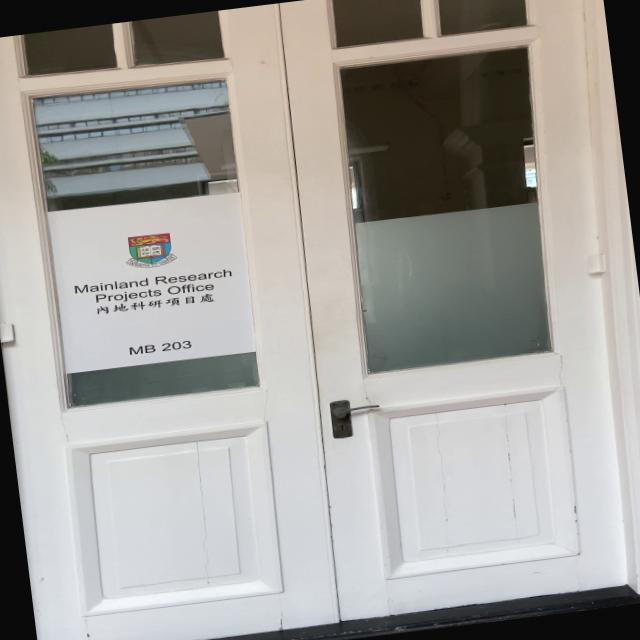room203Window: (119, 332, 201, 361)
